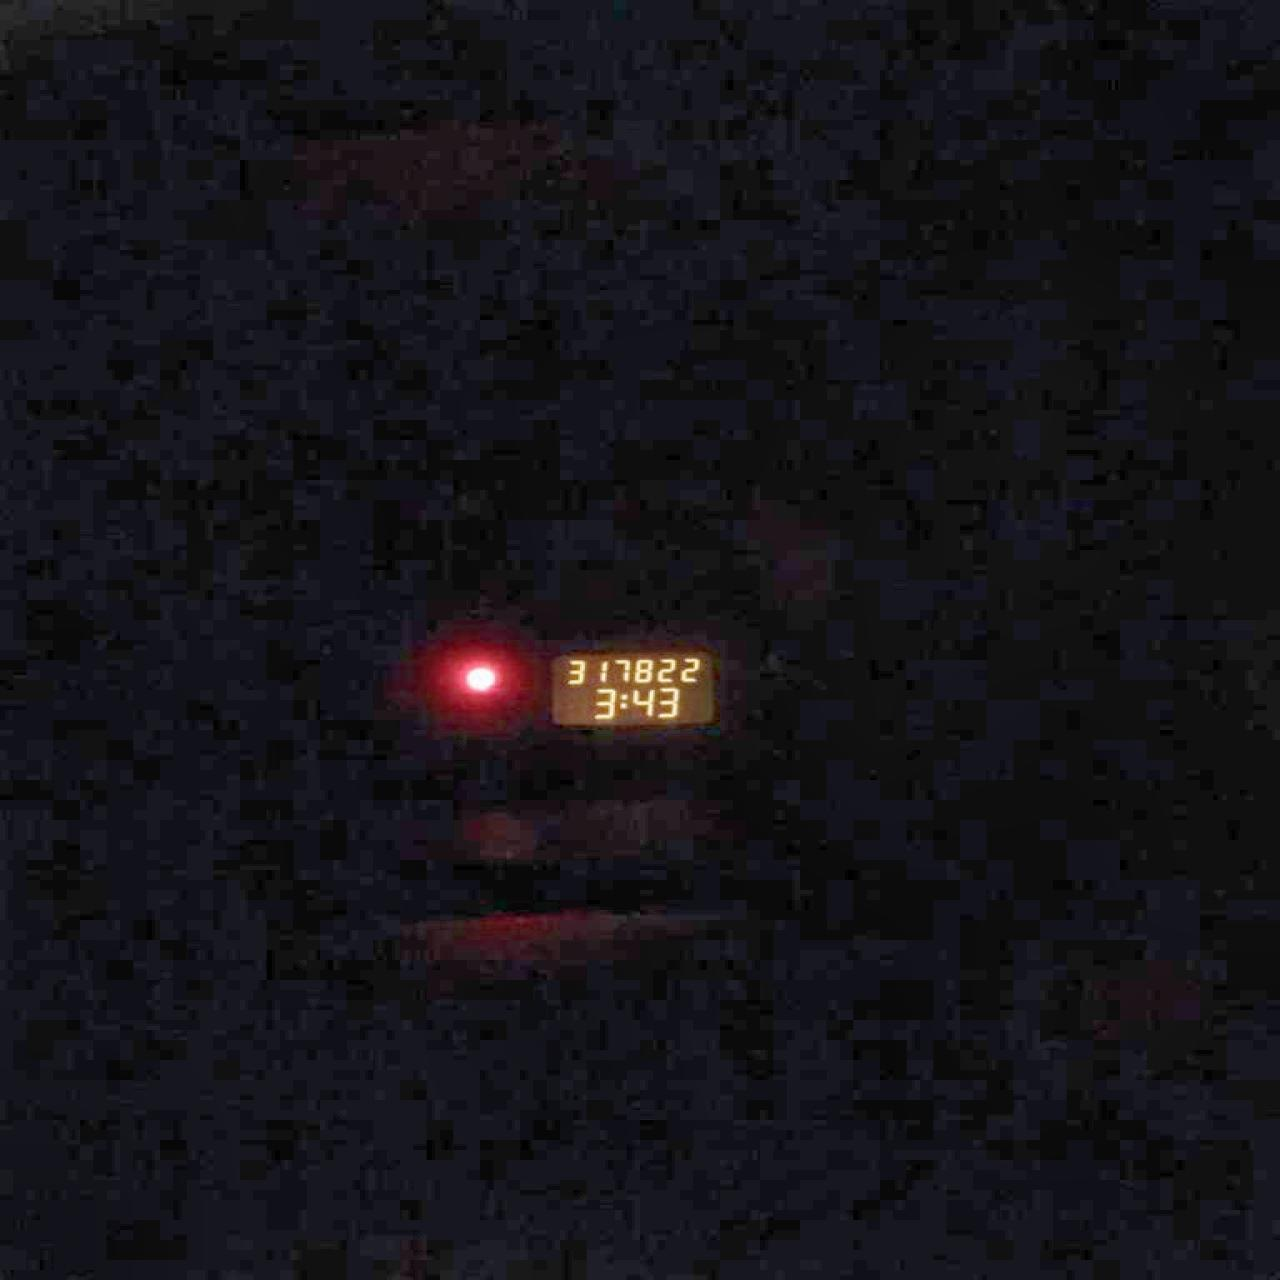1: (595, 658, 610, 682)
2: (653, 655, 675, 682), (679, 656, 700, 682)
3: (590, 685, 615, 720), (655, 686, 679, 719), (565, 658, 585, 685)
4: (629, 686, 653, 716)
7: (612, 656, 631, 682)
8: (632, 658, 652, 683)
X: (617, 690, 626, 710)
odometer: (542, 646, 722, 729)
